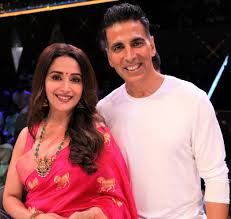Bad: (3, 3, 231, 219)
